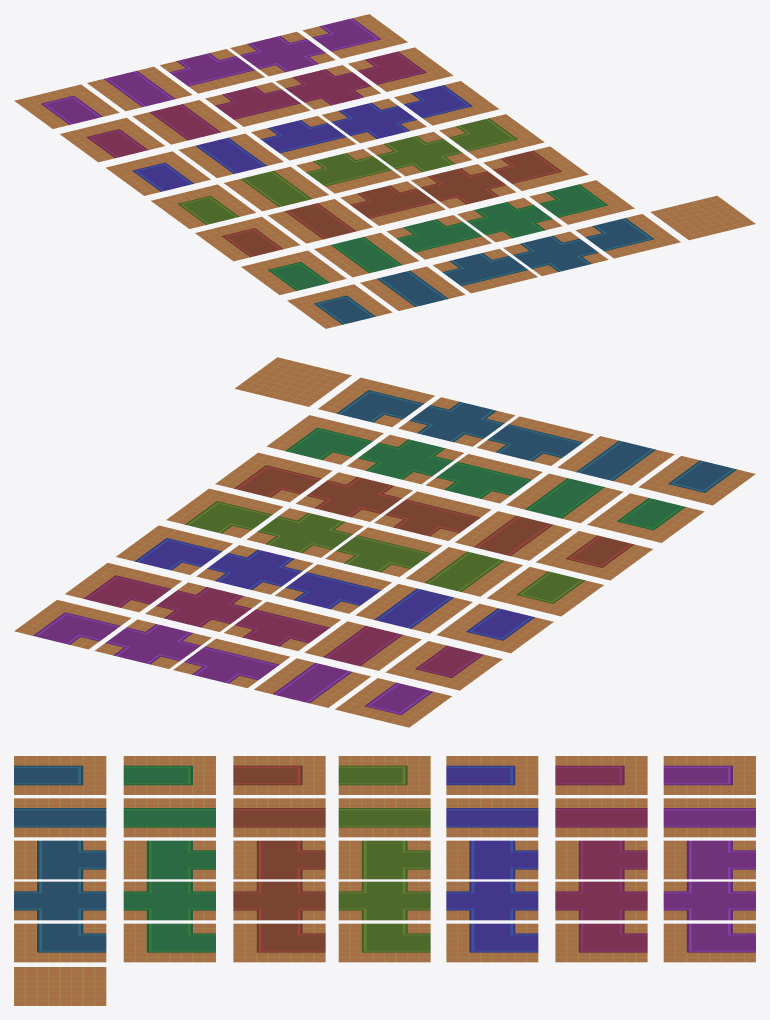
File: FloorsHotel1.fbx
3 renders of one model, top to bottom at view 1: azimuth 30°, elevation 25°; view 2: azimuth 150°, elevation 25°; view 3: azimuth 270°, elevation 25°, orthographic. The views are drawn at different scales.
Parts seen in each view (by area): view 1: FloorHotel1SquareLvl1, FloorHotel1StraightLvl1, FloorHotel1EndLvl7, FloorHotel1CornerLvl1, FloorHotel1CornerLvl2, FloorHotel1CrossroadBLvl3, FloorHotel1EndLvl3, FloorHotel1CornerLvl4, FloorHotel1CrossroadALvl5, FloorHotel1StraightLvl5, FloorHotel1CornerLvl6, FloorHotel1CrossroadALvl6 (+24 smaller); view 2: FloorHotel1StraightLvl1, FloorHotel1CrossroadBLvl4, FloorHotel1StraightLvl6, FloorHotel1CrossroadALvl1, FloorHotel1EndLvl1, FloorHotel1CornerLvl2, FloorHotel1CrossroadALvl2, FloorHotel1CrossroadBLvl2, FloorHotel1StraightLvl2, FloorHotel1CrossroadBLvl3, FloorHotel1EndLvl3, FloorHotel1CornerLvl4 (+24 smaller); view 3: FloorHotel1CornerLvl3, FloorHotel1CrossroadALvl3, FloorHotel1CrossroadBLvl3, FloorHotel1StraightLvl3, FloorHotel1CornerLvl6, FloorHotel1CrossroadALvl6, FloorHotel1CrossroadBLvl6, FloorHotel1StraightLvl6, FloorHotel1StraightLvl1, FloorHotel1StraightLvl2, FloorHotel1StraightLvl4, FloorHotel1StraightLvl5 (+24 smaller).
Boxes of the visible parts, bbox=[...] form: FloorHotel1SquareLvl1: bbox=[650, 195, 755, 240]; FloorHotel1StraightLvl1: bbox=[360, 266, 465, 310]; FloorHotel1EndLvl7: bbox=[14, 84, 119, 128]; FloorHotel1CornerLvl1: bbox=[575, 214, 680, 258]; FloorHotel1CornerLvl2: bbox=[529, 180, 634, 224]; FloorHotel1CrossroadBLvl3: bbox=[340, 181, 445, 225]; FloorHotel1EndLvl3: bbox=[195, 216, 299, 261]; FloorHotel1CornerLvl4: bbox=[439, 114, 544, 158]; FloorHotel1CrossroadALvl5: bbox=[322, 98, 426, 143]; FloorHotel1StraightLvl5: bbox=[178, 133, 283, 177]; FloorHotel1CornerLvl6: bbox=[348, 47, 453, 91]; FloorHotel1CrossroadALvl6: bbox=[276, 65, 380, 109]; FloorHotel1StraightLvl1: bbox=[557, 436, 674, 485]; FloorHotel1CrossroadBLvl4: bbox=[325, 527, 442, 576]; FloorHotel1StraightLvl6: bbox=[304, 621, 421, 670]; FloorHotel1CrossroadALvl1: bbox=[398, 397, 515, 446]; FloorHotel1EndLvl1: bbox=[638, 456, 755, 505]; FloorHotel1CornerLvl2: bbox=[266, 415, 383, 464]; FloorHotel1CrossroadALvl2: bbox=[347, 434, 463, 484]; FloorHotel1CrossroadBLvl2: bbox=[425, 454, 542, 503]; FloorHotel1StraightLvl2: bbox=[506, 473, 623, 523]; FloorHotel1CrossroadBLvl3: bbox=[374, 491, 491, 540]; FloorHotel1EndLvl3: bbox=[536, 531, 652, 580]; FloorHotel1CornerLvl4: bbox=[166, 488, 283, 538]; FloorHotel1CornerLvl3: bbox=[233, 923, 325, 962]; FloorHotel1CrossroadALvl3: bbox=[233, 881, 325, 920]; FloorHotel1CrossroadBLvl3: bbox=[233, 840, 325, 879]; FloorHotel1StraightLvl3: bbox=[233, 798, 325, 837]; FloorHotel1CornerLvl6: bbox=[555, 923, 647, 962]; FloorHotel1CrossroadALvl6: bbox=[555, 881, 647, 920]; FloorHotel1CrossroadBLvl6: bbox=[555, 840, 647, 879]; FloorHotel1StraightLvl6: bbox=[555, 798, 647, 837]; FloorHotel1StraightLvl1: bbox=[14, 798, 106, 837]; FloorHotel1StraightLvl2: bbox=[123, 798, 215, 837]; FloorHotel1StraightLvl4: bbox=[338, 798, 430, 837]; FloorHotel1StraightLvl5: bbox=[446, 798, 538, 837].
Bounding box in the file's own units: 3846 × 8.29e-13 × 4827.
